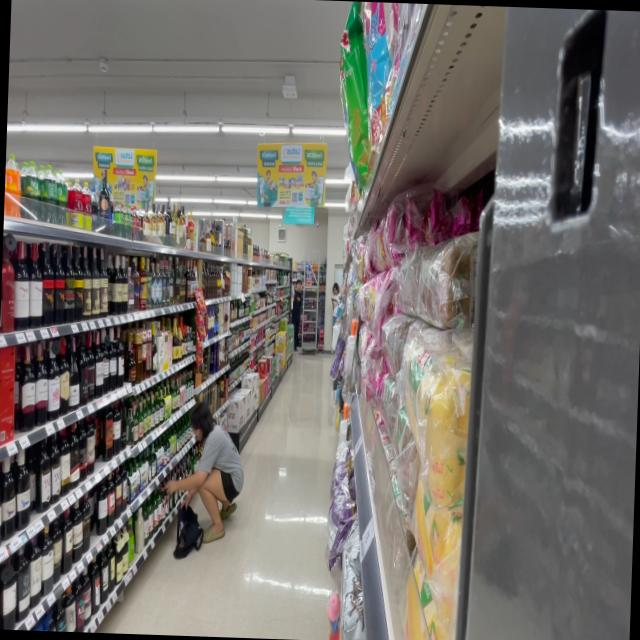shoplifting: (158, 394, 242, 560)
